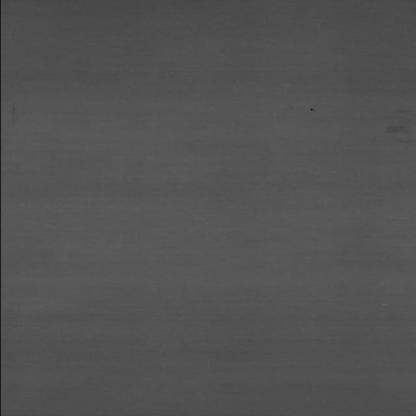inclusion: (301, 101, 324, 120)
